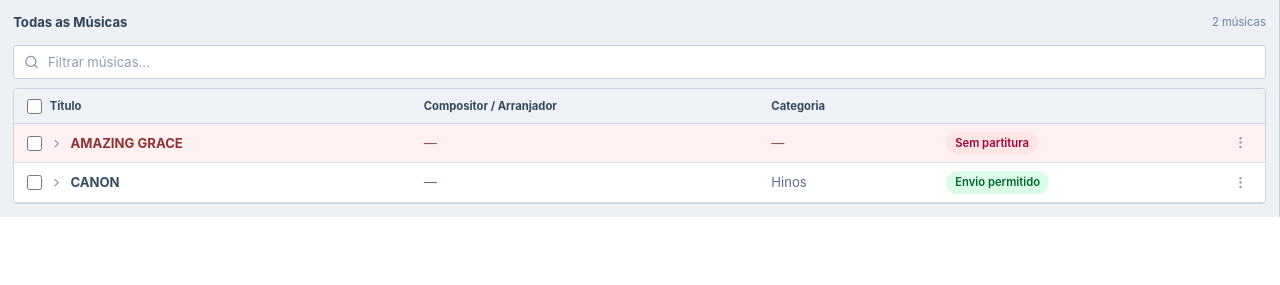
it: SongsList › shows only clear selection when mixing songs with and without scores
Expected: the text "CANON" is shown, [70, 173, 120, 192]
Click the checkbox named "select CANON".
click(35, 183)  # box [27, 175, 42, 190]
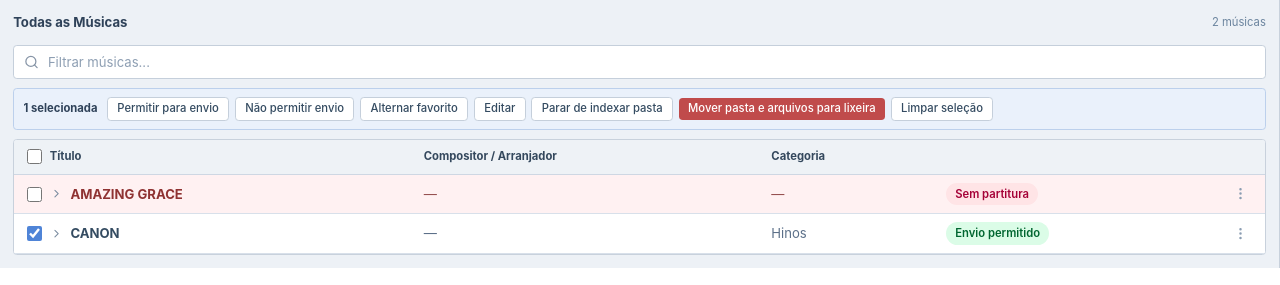
Click the checkbox named "select AMAZING GRACE".
click(35, 194)  # box [27, 186, 42, 202]
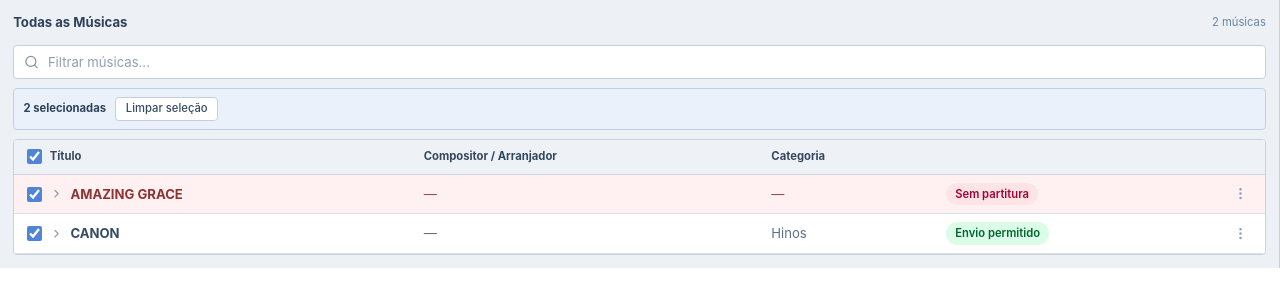
Result: the text "2 selecionadas" is shown at [24, 101, 106, 116]
Result: the button "Parar de indexar pasta" is gone
Result: the button "Mover pasta e arquivos para lixeira" is gone
